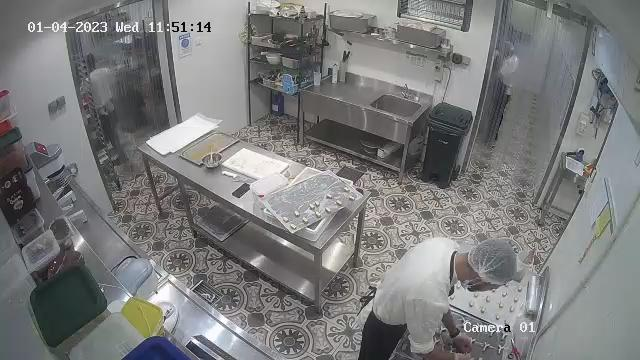apron: (365, 248, 466, 360)
